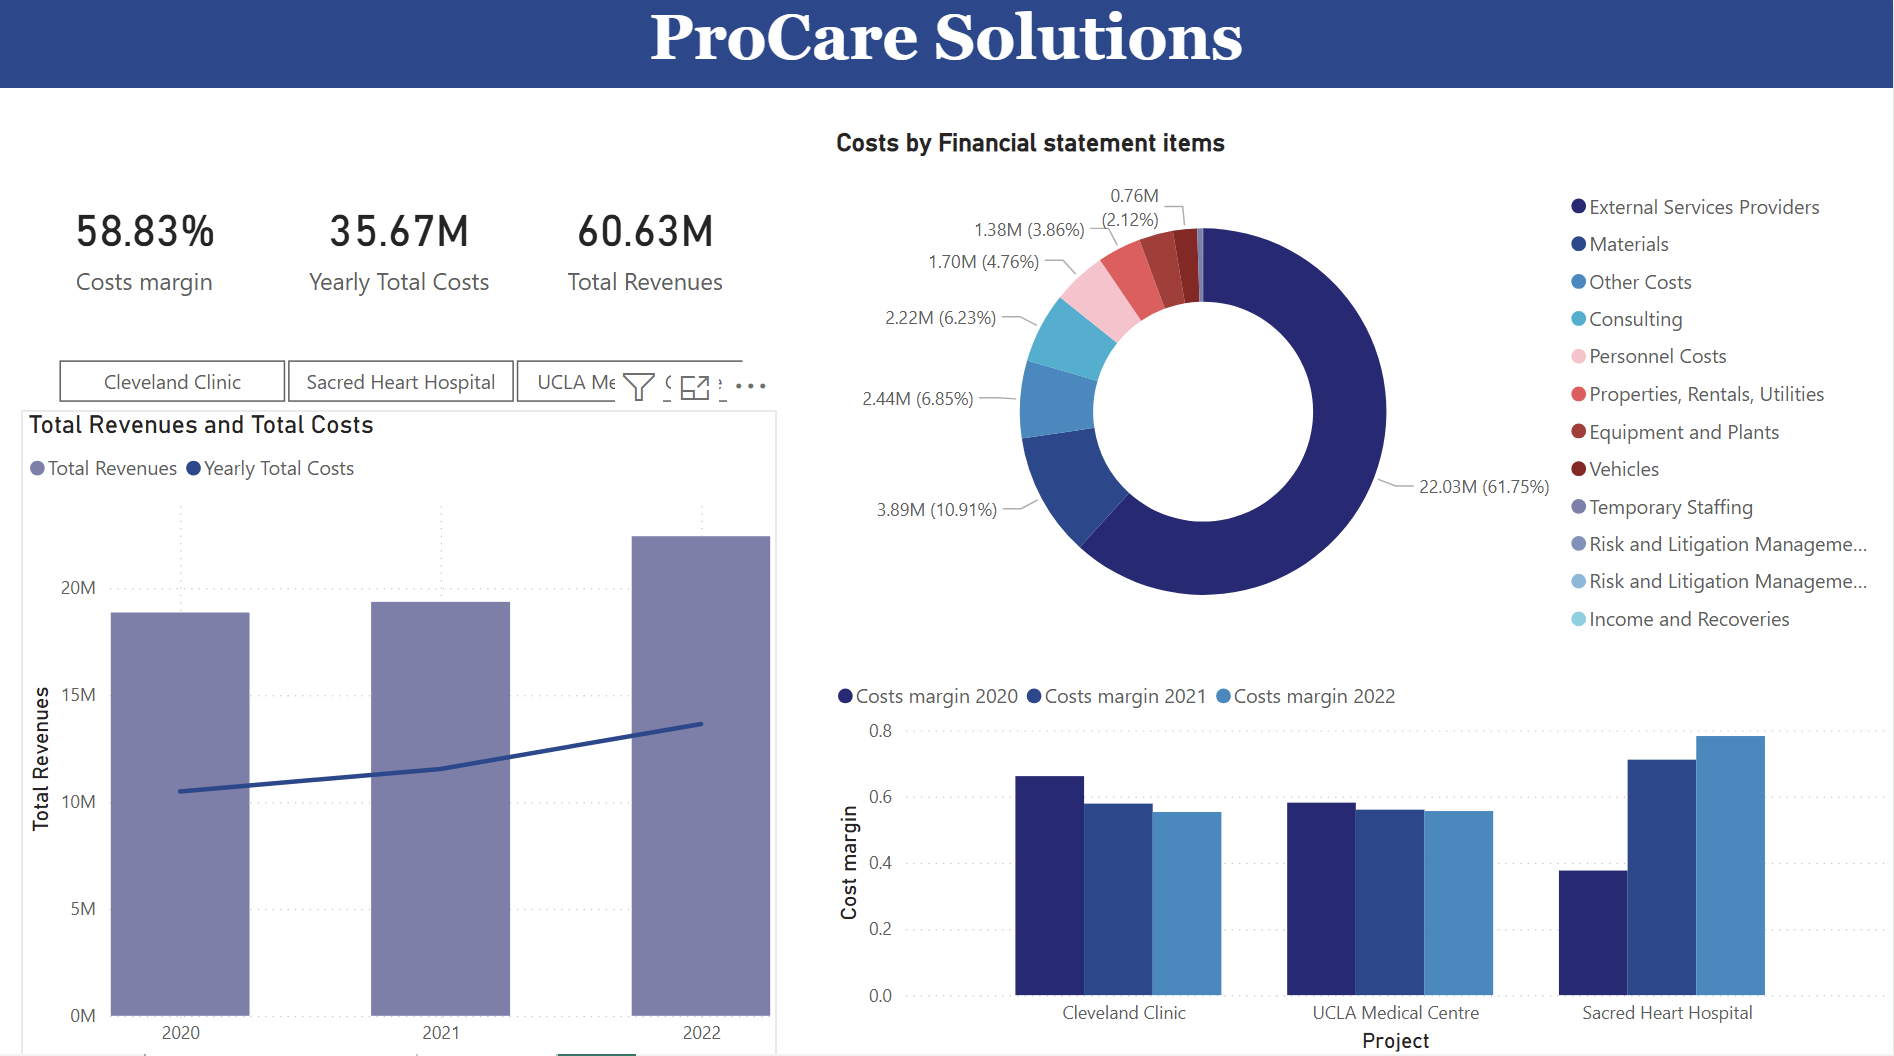

What the dashboard file says about the page in this screenshot:
{"tool":"powerbi","page":{"name":"Costs","canvas":[1280,720],"ordinal":1},"visuals":[{"type":"slicer","fields":{"Values":["Revenues.Project Name"]},"box":[14.5,240.1,511.5,42.2],"z":0},{"type":"lineClusteredColumnComboChart","title":"Total Revenues and Total Costs","fields":{"Y2":["Costs.Total_Costs"],"Category":["FiscalYearTable.Fiscal Year"],"Y":["Revenues.Total Revenues new"]},"box":[14.5,281.1,511.5,439.1],"z":1000},{"type":"donutChart","title":"Costs by Financial statement items","fields":{"Category":["Costs.Financial Statement Item description"],"Y":["Sum(Costs.Values)"]},"box":[561.4,90,718.6,364.3],"z":2000},{"type":"textbox","box":[0,0,1280.3,63.6],"z":3000},{"type":"lineClusteredColumnComboChart","title":"Costs margin","fields":{"Y":["Costs.Costs margin 2020","Costs.Costs margin 2021","Costs.Costs margin 2022"],"Category":["Costs.Project Name"]},"box":[561.4,454.3,718.6,265.7],"z":4000},{"type":"card","fields":{"Values":["Costs.Costs margin"]},"box":[14.5,95.3,166.5,144.8],"z":5000},{"type":"card","fields":{"Values":["Costs.Total_Costs"]},"box":[181,95.3,178.6,144.8],"z":6000},{"type":"card","fields":{"Values":["Revenues.Total_Revenues"]},"box":[347.5,95.3,178.6,144.8],"z":7000}]}

Visuals, with their boxes in screenshot pixels (x1, y1, x2, y2), scaled from the page's 1280x720 canvas onto the 1894x1056 screenshot:
slicer - Revenues.Project Name: (21,352,778,414)
"Total Revenues and Total Costs" lineClusteredColumnComboChart: (21,412,778,1055)
"Costs by Financial statement items" donutChart: (831,132,1893,666)
textbox: (0,0,1893,93)
"Costs margin" lineClusteredColumnComboChart: (831,666,1893,1055)
card - Costs.Costs margin: (21,140,268,352)
card - Costs.Total_Costs: (268,140,532,352)
card - Revenues.Total_Revenues: (514,140,778,352)
